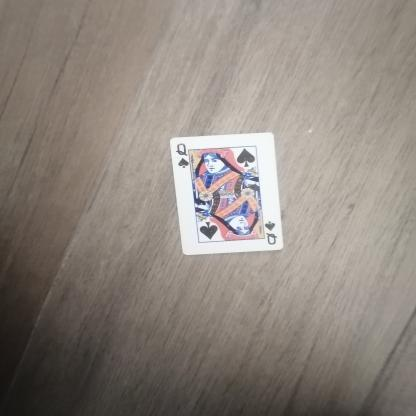QS: (172, 141, 196, 175), (260, 215, 284, 244)
